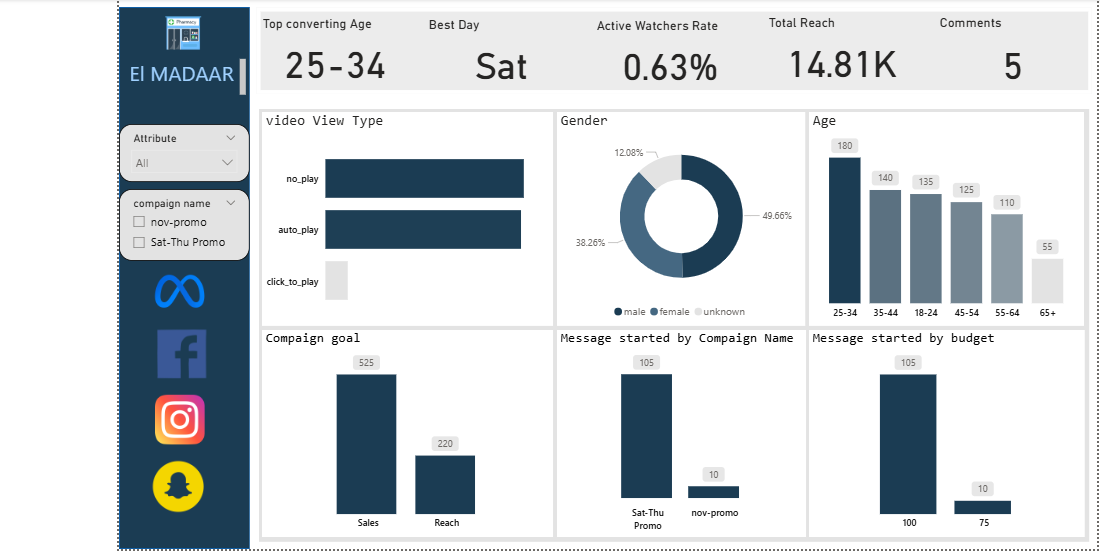

The dashboard page shown, as its layout file describes it:
{"tool":"powerbi","page":{"name":"Page 1","canvas":[1280,720],"ordinal":0},"visuals":[{"type":"shape","box":[183.1,143.8,1086.8,566.6],"z":0},{"type":"clusteredBarChart","title":"video View Type ","fields":{"Category":["ad data.video View Type"],"Y":["CountNonNull(ad data.video View Type)"]},"box":[187.4,148.2,380.7,280.4],"z":1000},{"type":"columnChart","title":"Age","fields":{"Category":["ad data.Age"],"Y":["CountNonNull(ad data.Age)"]},"box":[903.7,148.2,360.3,280.4],"z":2000},{"type":"donutChart","title":"Gender ","fields":{"Category":["ad data.Gender"],"Y":["CountNonNull(ad data.Gender)"]},"box":[573.9,148.2,325.4,280.4],"z":3000},{"type":"shape","box":[0,10.5,171.5,709.5],"z":4000},{"type":"shape","box":[178.7,10.2,1095.5,114.8],"z":5000},{"type":"clusteredColumnChart","title":" Message started by Compaign Name","fields":{"Category":["ad data.compaign name"],"Y":["Sum(ad data.Msg started)"]},"box":[573.4,433.3,326,271],"z":6000},{"type":"clusteredColumnChart","title":"Compaign goal","fields":{"Category":["ad data.compaign goal"],"Y":["CountNonNull(ad data.acc ID)"]},"box":[187.2,433.3,380.9,271],"z":7000},{"type":"card","title":"Active Watchers Rate","fields":{"Values":["measure.Active Watchers Rate"]},"box":[620.5,26.2,201.6,103.4],"z":8000},{"type":"card","title":"Best Day","fields":{"Values":["measure.Best Day"]},"box":[401,23.6,200.5,103.2],"z":9000},{"type":"card","title":"Top converting Age","fields":{"Values":["measure.Top Converting Age"]},"box":[183.1,22.2,199,103.2],"z":10000},{"type":"card","title":"Comments","fields":{"Values":["measure.Total Comments"]},"box":[1069.3,20.7,200.5,103.2],"z":11000},{"type":"card","title":"Total Reach","fields":{"Values":["measure.Total Reach"]},"box":[845.6,20.7,200.5,103.2],"z":12000},{"type":"clusteredColumnChart","title":" Message started by budget","fields":{"Category":["ad data.compaign Budget"],"Y":["Sum(ad data.Msg started)"]},"box":[903.3,433.3,361.3,271],"z":13000},{"type":"slicer","fields":{"Values":["ad data.Attribute"]},"box":[0,150.5,171.5,75.9],"z":14000},{"type":"slicer","fields":{"Values":["ad data.compaign name"]},"box":[0,239.6,171.5,99.5],"z":15000},{"type":"image","box":[43.2,427.7,77.8,73.4],"z":16000},{"type":"image","box":[47.5,517,64.8,66.2],"z":17000},{"type":"image","box":[45.8,602.2,73.3,72],"z":18000},{"type":"image","box":[44.6,349.9,70.6,66.2],"z":19000},{"type":"textbox","box":[0,73.3,171.5,61.5],"z":20000},{"type":"image","box":[40.6,20.9,87.7,47.1],"z":21000}]}

Visuals, with their boxes on the page's 1280x720 design canvas (x1, y1, x2, y2). These are canvas units, not pixel positions in the 1100x552 screenshot, which may show the page scaled, cropped or inside an application window:
shape: l=183, t=144, r=1270, b=710
"video View Type " clusteredBarChart: l=187, t=148, r=568, b=429
"Age" columnChart: l=904, t=148, r=1264, b=429
"Gender " donutChart: l=574, t=148, r=899, b=429
shape: l=0, t=10, r=172, b=720
shape: l=179, t=10, r=1274, b=125
" Message started by Compaign Name" clusteredColumnChart: l=573, t=433, r=899, b=704
"Compaign goal" clusteredColumnChart: l=187, t=433, r=568, b=704
"Active Watchers Rate" card: l=620, t=26, r=822, b=130
"Best Day" card: l=401, t=24, r=602, b=127
"Top converting Age" card: l=183, t=22, r=382, b=125
"Comments" card: l=1069, t=21, r=1270, b=124
"Total Reach" card: l=846, t=21, r=1046, b=124
" Message started by budget" clusteredColumnChart: l=903, t=433, r=1265, b=704
slicer - ad data.Attribute: l=0, t=150, r=172, b=226
slicer - ad data.compaign name: l=0, t=240, r=172, b=339
image: l=43, t=428, r=121, b=501
image: l=48, t=517, r=112, b=583
image: l=46, t=602, r=119, b=674
image: l=45, t=350, r=115, b=416
textbox: l=0, t=73, r=172, b=135
image: l=41, t=21, r=128, b=68
